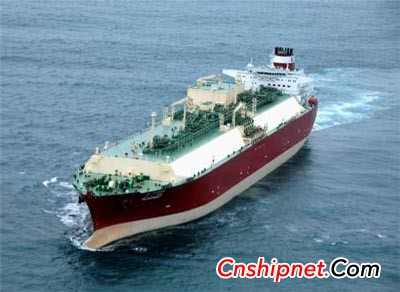Cargoship: (72, 43, 321, 251)
